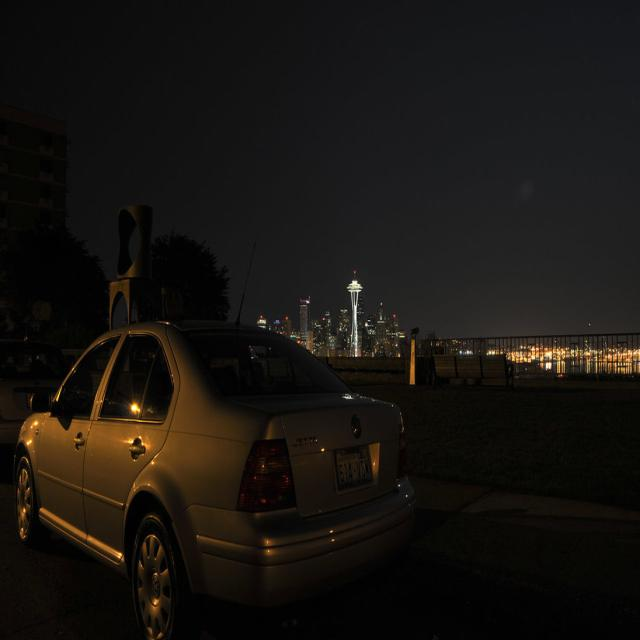car: (10, 323, 424, 634), (0, 322, 73, 488)
chair: (417, 324, 524, 406)
